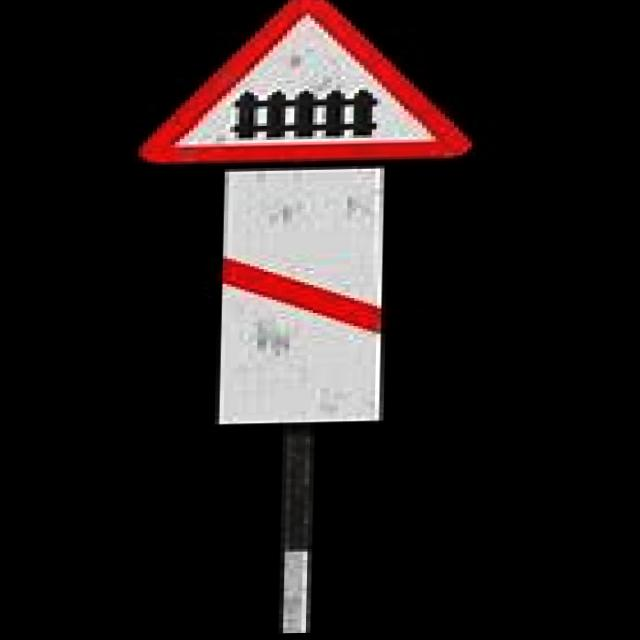GUARDED_LEVEL_CROSSING: (125, 0, 476, 436)
